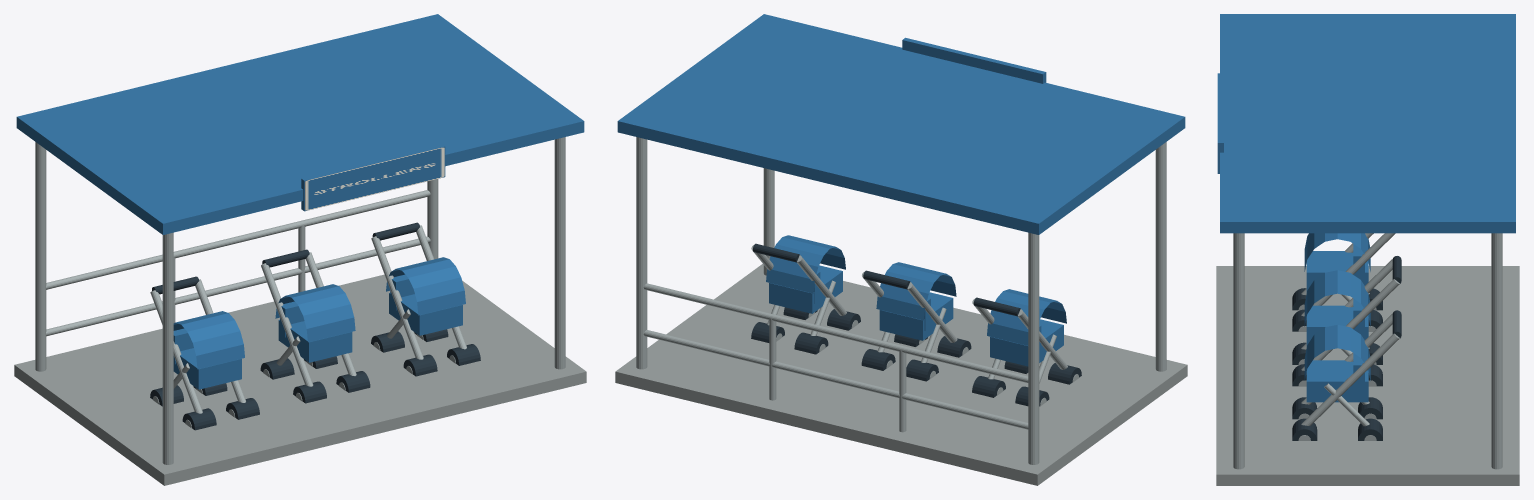
Rendered from scendance-plan-stroller-storage.glb.
3 renders of one model, left to right at view 1: azimuth 30°, elevation 25°; view 2: azimuth 150°, elevation 25°; view 3: azimuth 270°, elevation 25°, orthographic.
Size of the model in its own units: 3.9 by 2.38 by 2.4.
5 materials, 1 textured.
